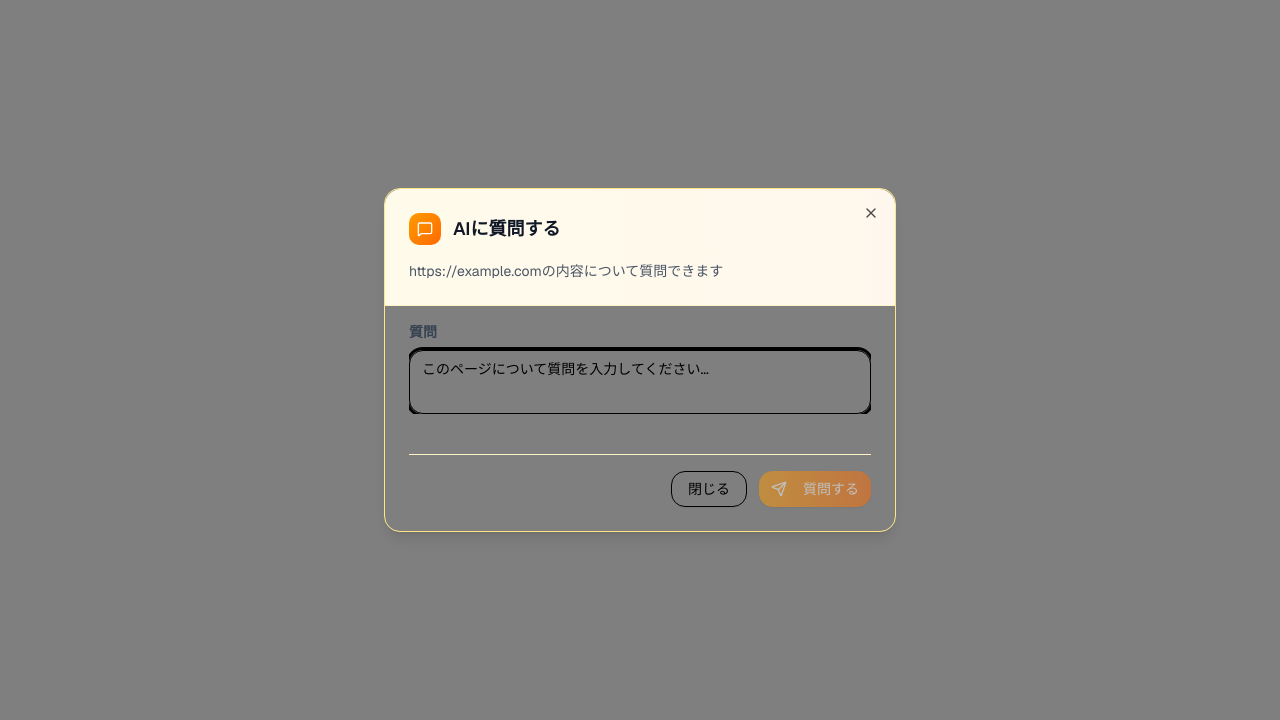
AiQuestionModal › API通信 › エラー時にエラーメッセージが表示されるべき
The width and height of the screenshot is (1280, 720).
Type "質問内容" into the text box with placeholder "このページについて質問を入力してください..." at (640, 382), box [409,350,871,414]
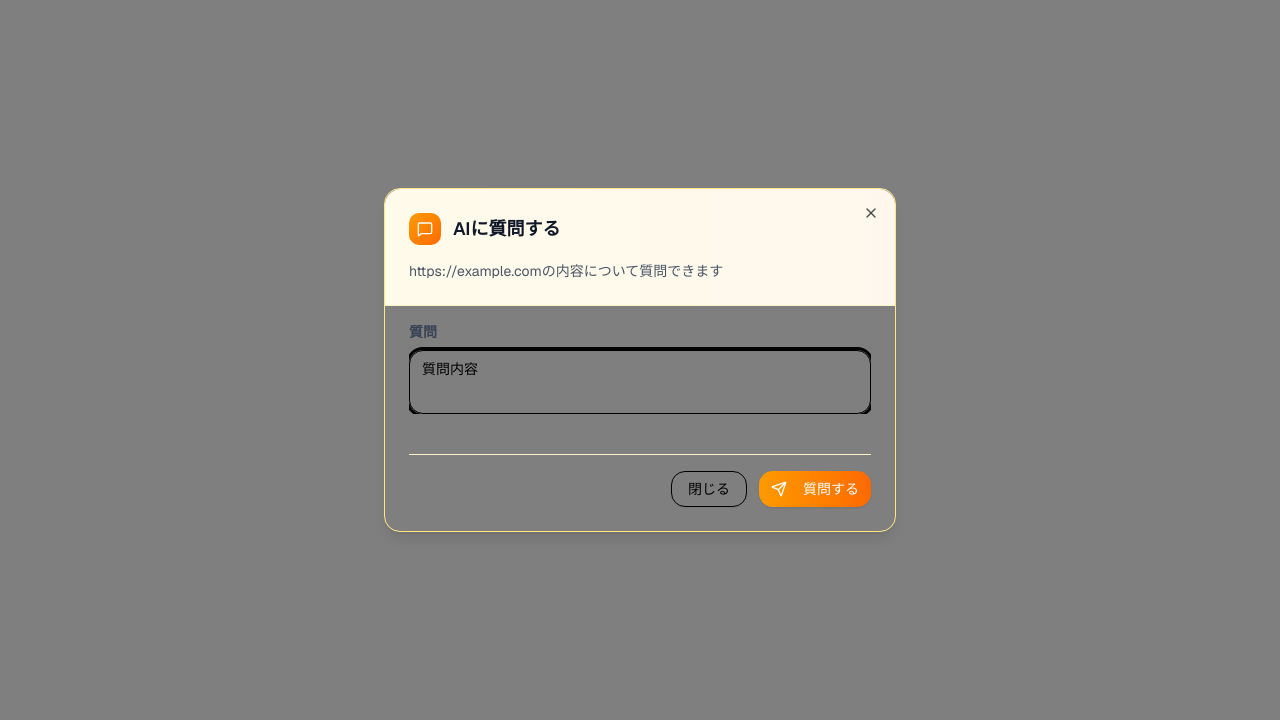
Click the button "質問する" at (815, 489), box [759,471,871,507]
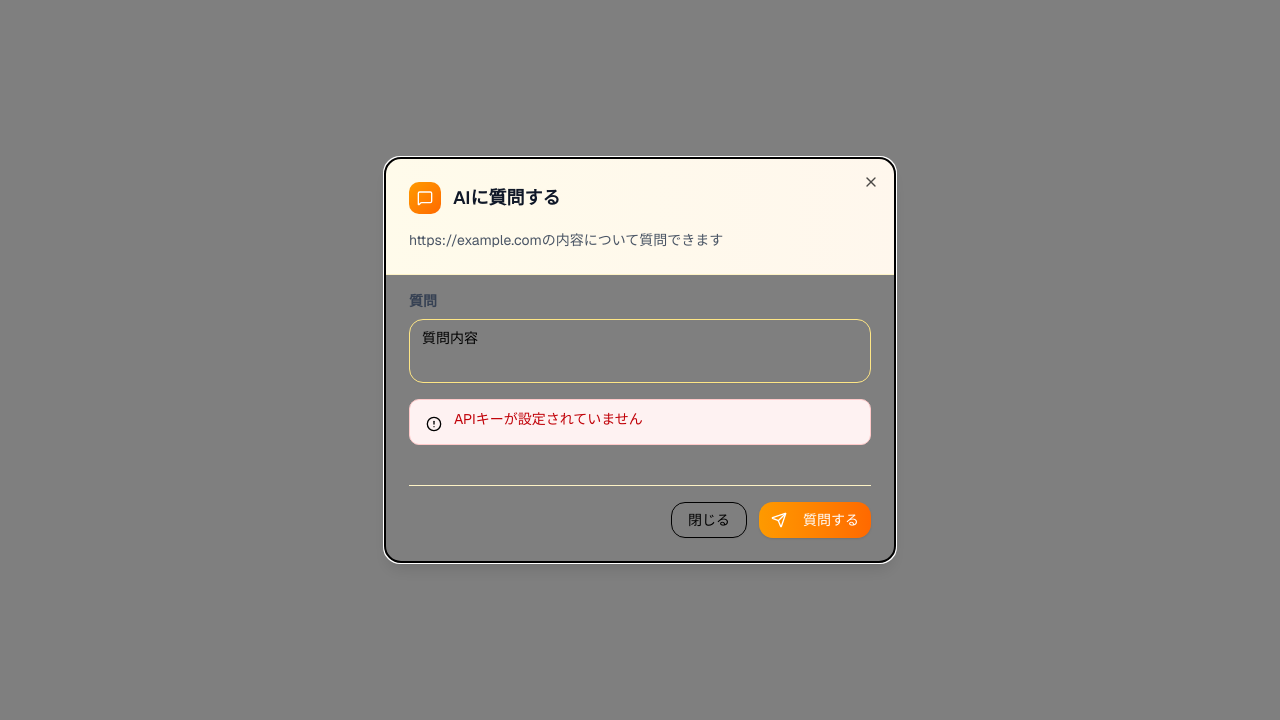
Expected: the text "APIキーが設定されていません" is shown, [454,410,643,428]
